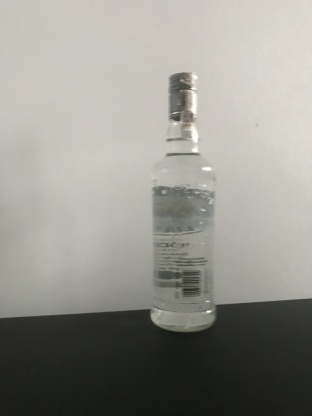nakretka: (165, 70, 200, 122)
